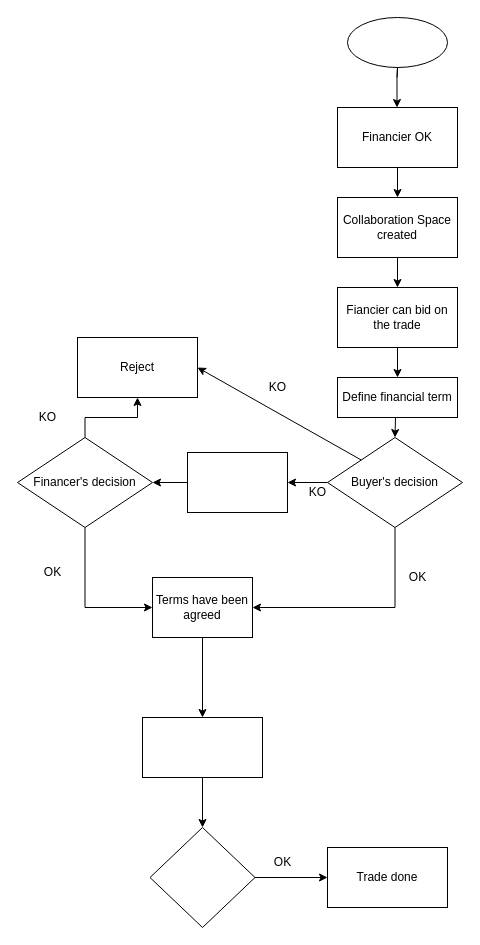
The diagram is 480 pixels wide and 945 high, and some of its shapes have lost their labels. The centre of each missing label's shape, as x and y in pixels:
Amount locked: the point at 202,747
Buyer makes new proposal: the point at 237,482
Confirmation received: the point at 202,877
Start: the point at 397,42
